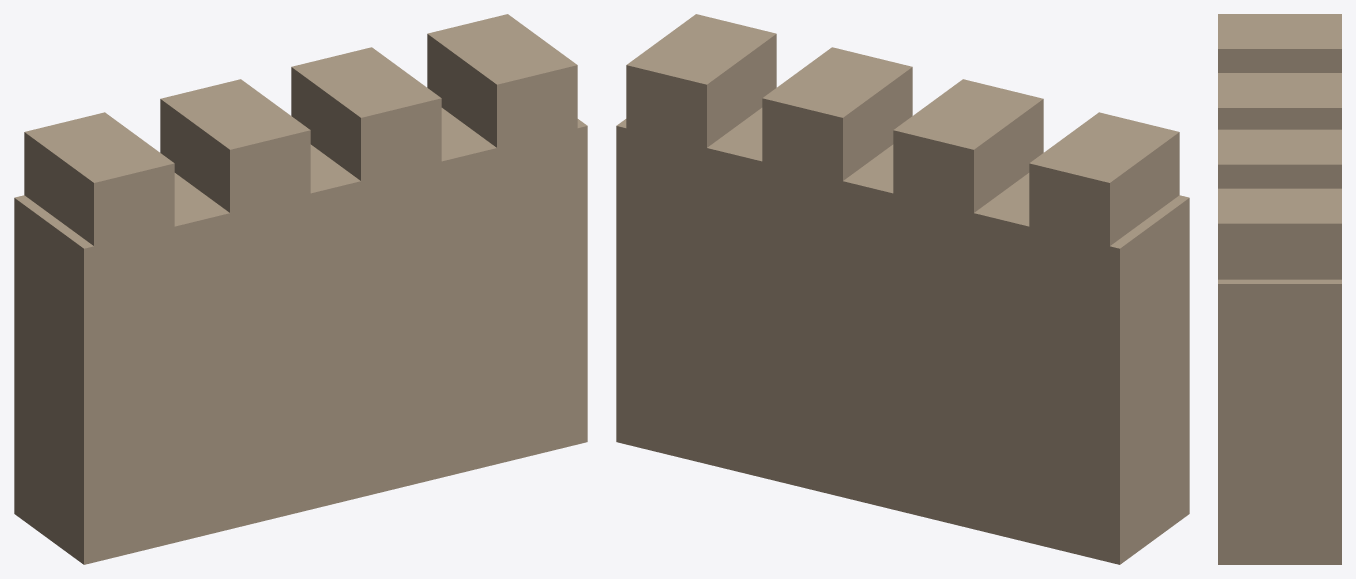
Rendered from wall-segment.glb.
3 views of the same model, side by side, from view 1: azimuth 30°, elevation 25°; view 2: azimuth 150°, elevation 25°; view 3: azimuth 270°, elevation 25° (orthographic). The views are drawn at different scales.
Visible parts, largest first — view 1: medieval-wall-segment; view 2: medieval-wall-segment; view 3: medieval-wall-segment.
Part boxes in pixels (x1,y1,x2,y2): medieval-wall-segment: (14,14,587,564); medieval-wall-segment: (616,14,1189,564); medieval-wall-segment: (1218,14,1341,564).
Size of the model in its own units: 1 by 0.72 by 0.24.
